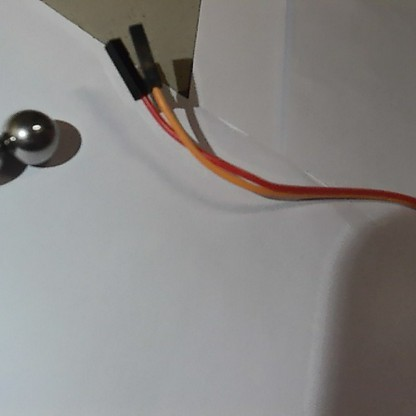ironball: (5, 106, 63, 166)
